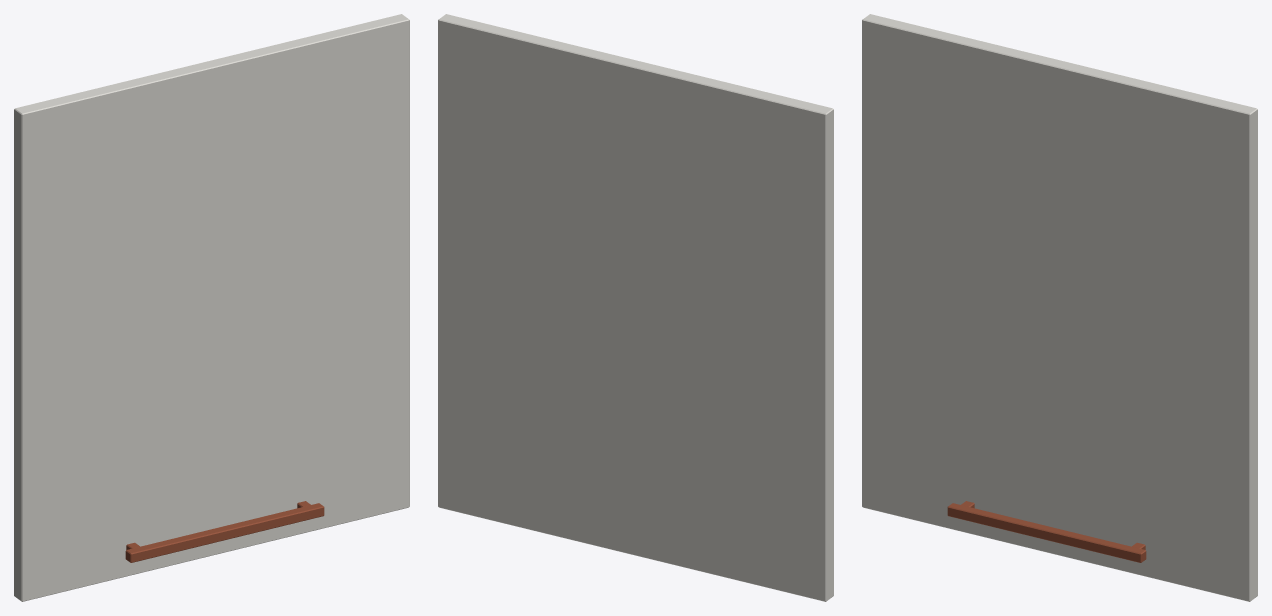
File: l_kitchen_mid_w2_flap.glb
The picture shows the model from 3 angles, left to right: view 1: azimuth 30°, elevation 25°; view 2: azimuth 150°, elevation 25°; view 3: azimuth 330°, elevation 25°; orthographic projection.
Parts seen in each view (by area): view 1: l_kitchen_mid_w2_flap; view 2: l_kitchen_mid_w2_flap; view 3: l_kitchen_mid_w2_flap.
Part boxes in pixels (x1,y1,x2,y2): l_kitchen_mid_w2_flap: [14, 14, 409, 601]; l_kitchen_mid_w2_flap: [438, 14, 833, 601]; l_kitchen_mid_w2_flap: [862, 14, 1257, 601].
Bounding box in the file's own units: 0.497 × 0.597 × 0.044.
